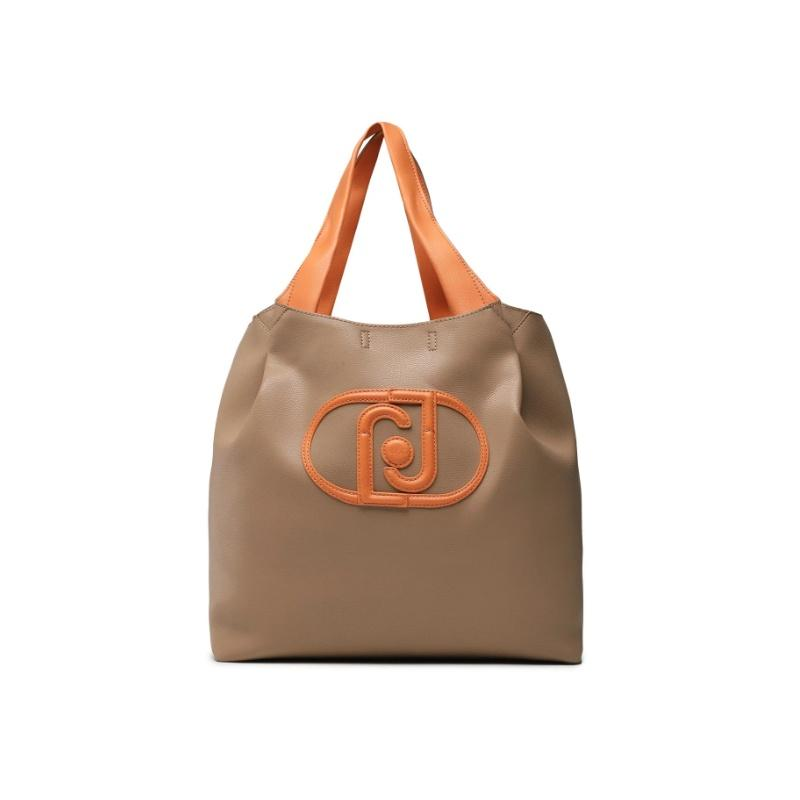LIU-JO: (356, 388, 438, 508)
